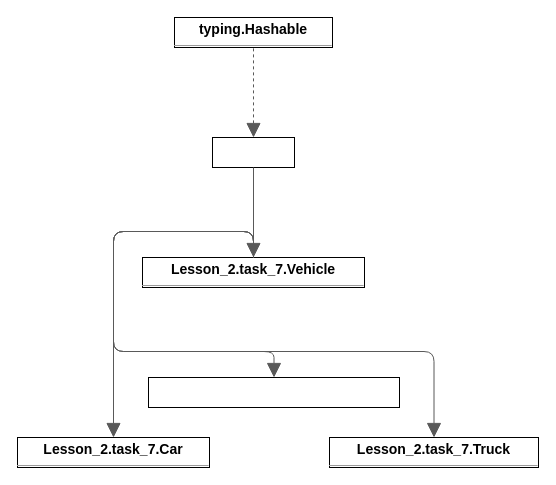
This 556x485 diagram has some shape labels left out. Here are the shapes that lost their labels. From the top down, the box of each, then its label:
(212, 136, 294, 168): object
(148, 376, 400, 408): Lesson_2.task_7.Motorcycle
